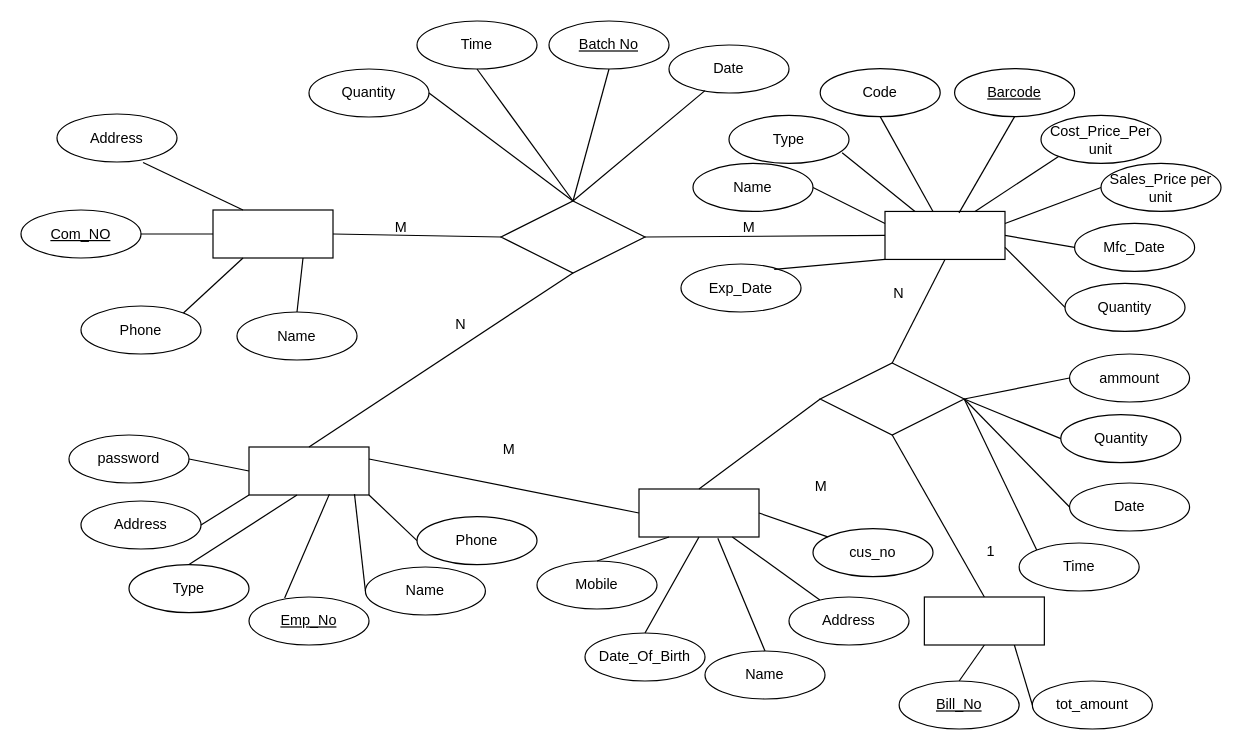
This 1242x750 diagram has some shape labels left out. The shapes that lost their labels are listed below. From the top down, each one's box as (x1, y1, x2, y2) in pixels, then its label:
(212, 209, 333, 258): Comany
(500, 200, 645, 273): Purchase
(884, 210, 1005, 259): Drug
(819, 362, 964, 435): Sales
(248, 446, 369, 495): User
(638, 488, 759, 537): Customer
(923, 596, 1044, 645): Bill
